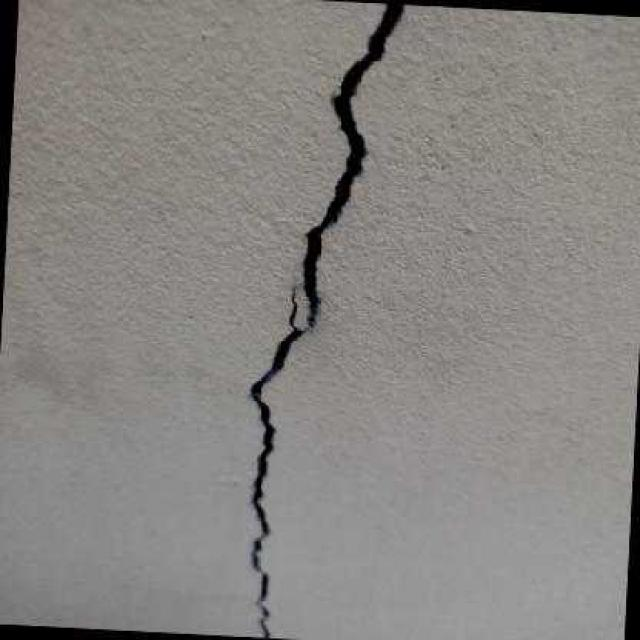D00: (246, 3, 402, 638)
